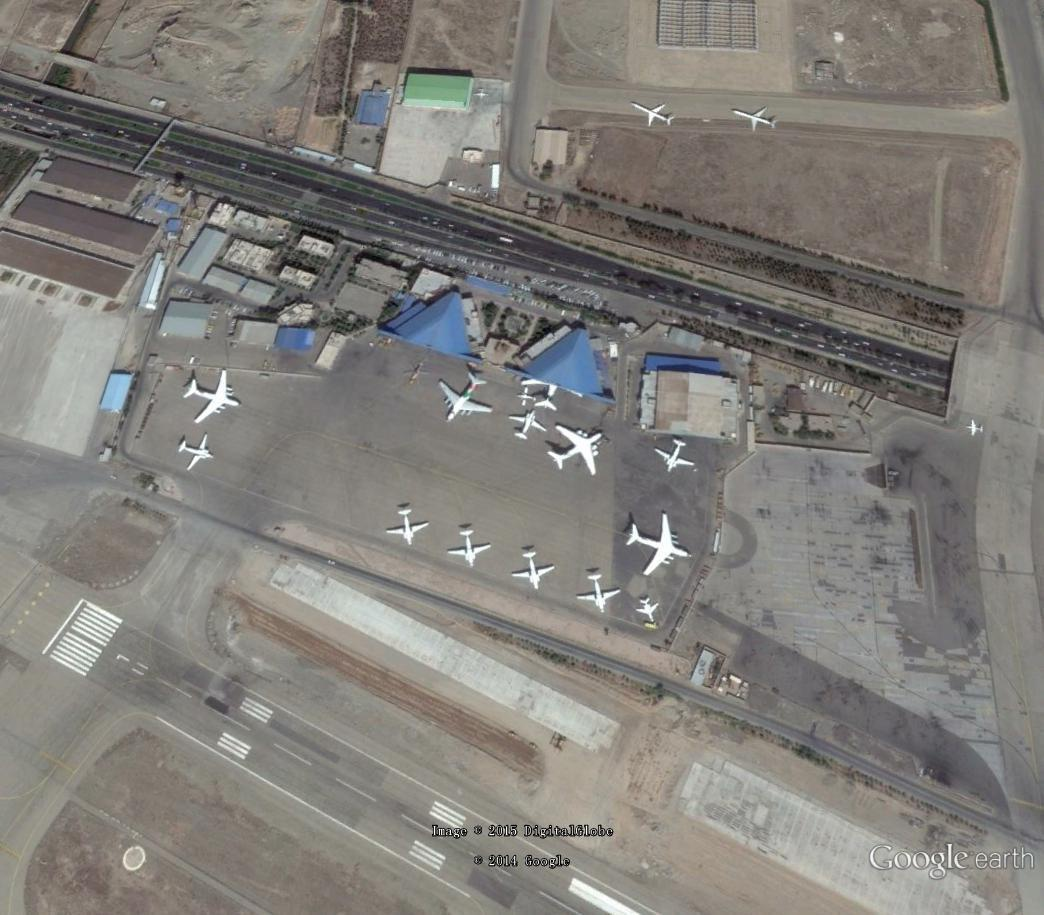aircraft: (625, 507, 694, 576), (183, 366, 246, 427), (544, 420, 607, 478), (436, 369, 499, 424), (573, 571, 625, 619), (444, 523, 495, 571), (726, 100, 784, 139), (508, 547, 555, 595), (652, 433, 702, 475), (627, 94, 678, 135), (385, 504, 430, 549), (172, 432, 217, 474), (507, 406, 547, 445), (634, 594, 664, 631)
